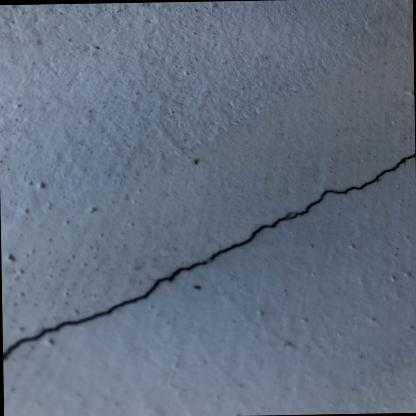crack: (2, 152, 414, 360)
